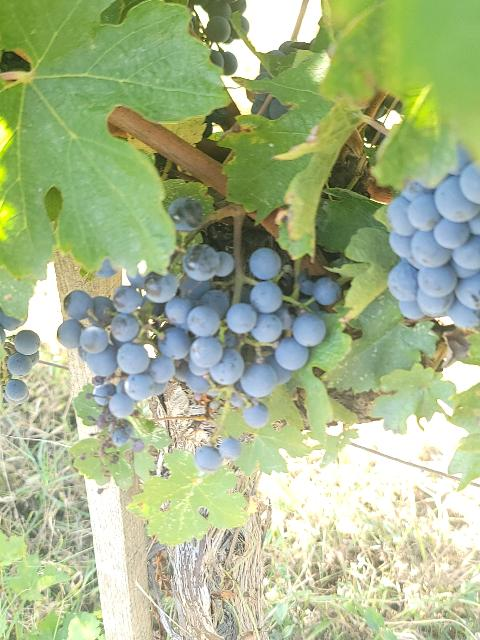grapes: (59, 244, 326, 448), (388, 149, 480, 329)
